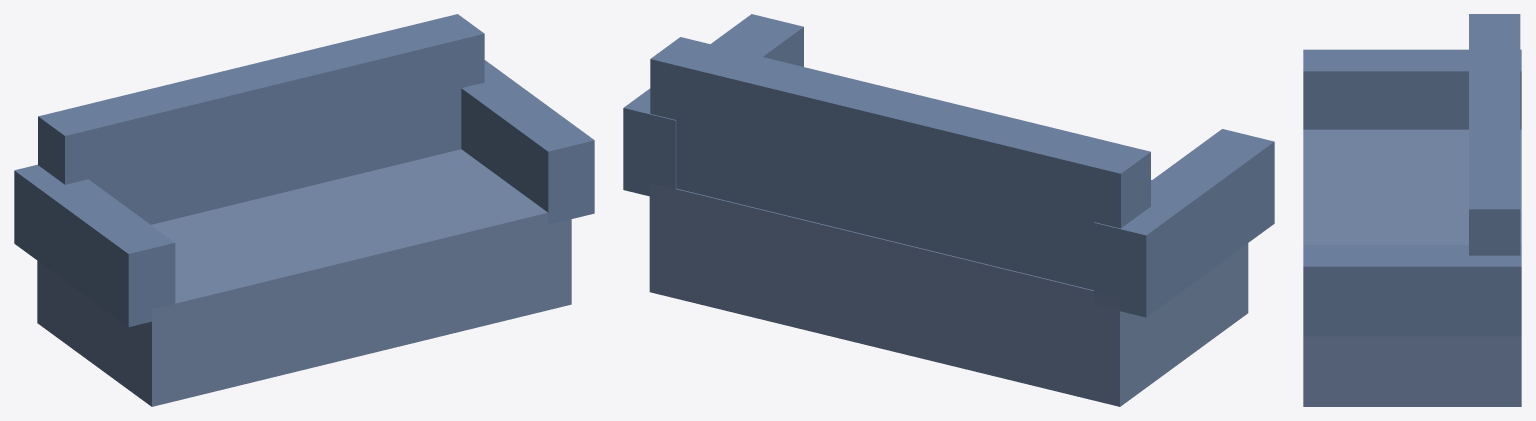
The model's file is sofa.glb.
The picture shows the model from 3 angles, left to right: view 1: azimuth 30°, elevation 25°; view 2: azimuth 150°, elevation 25°; view 3: azimuth 270°, elevation 25°; orthographic projection. The views are drawn at different scales.
Visible parts, largest first — view 1: geometry_0, geometry_1, geometry_2, geometry_3; view 2: geometry_1, geometry_0, geometry_2, geometry_3; view 3: geometry_0, geometry_3, geometry_2, geometry_1.
Part boxes in pixels (x1,y1,x2,y2): geometry_0: (37,149,571,406); geometry_1: (38,14,484,224); geometry_2: (14,164,175,327); geometry_3: (461,60,594,224); geometry_1: (650,37,1150,290); geometry_0: (649,180,1248,406); geometry_2: (1094,129,1274,317); geometry_3: (623,14,803,198); geometry_0: (1303,129,1521,406); geometry_3: (1303,245,1521,336); geometry_2: (1303,49,1521,129); geometry_1: (1469,14,1520,255).
Bounding box in the file's own units: 2 × 0.85 × 0.85.
